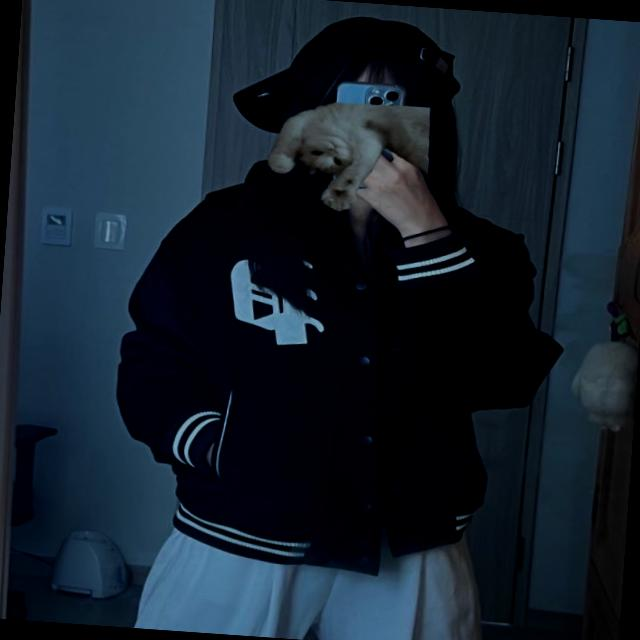cottonpants: (109, 506, 498, 640)
jacket: (109, 152, 580, 580)
